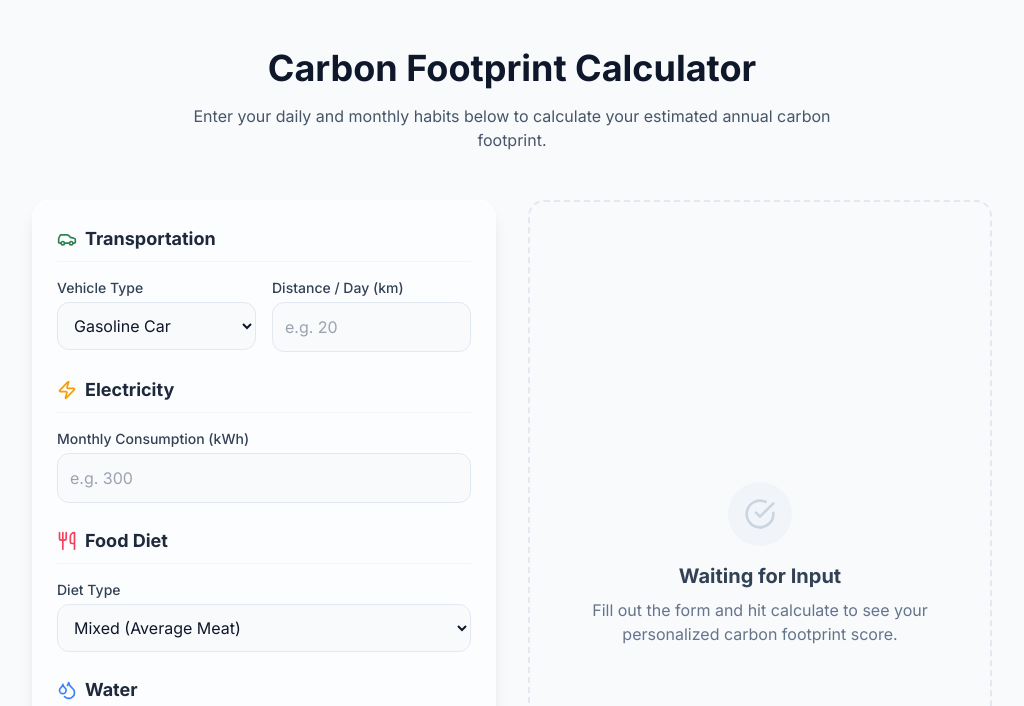
Test: CarbonCalculator Component › displays error for negative distance input
Type "-50" into the number field labelled "Distance / Day (km)".
click(372, 327); type("-50")  # box [272,302,471,352]
(page scrolled)
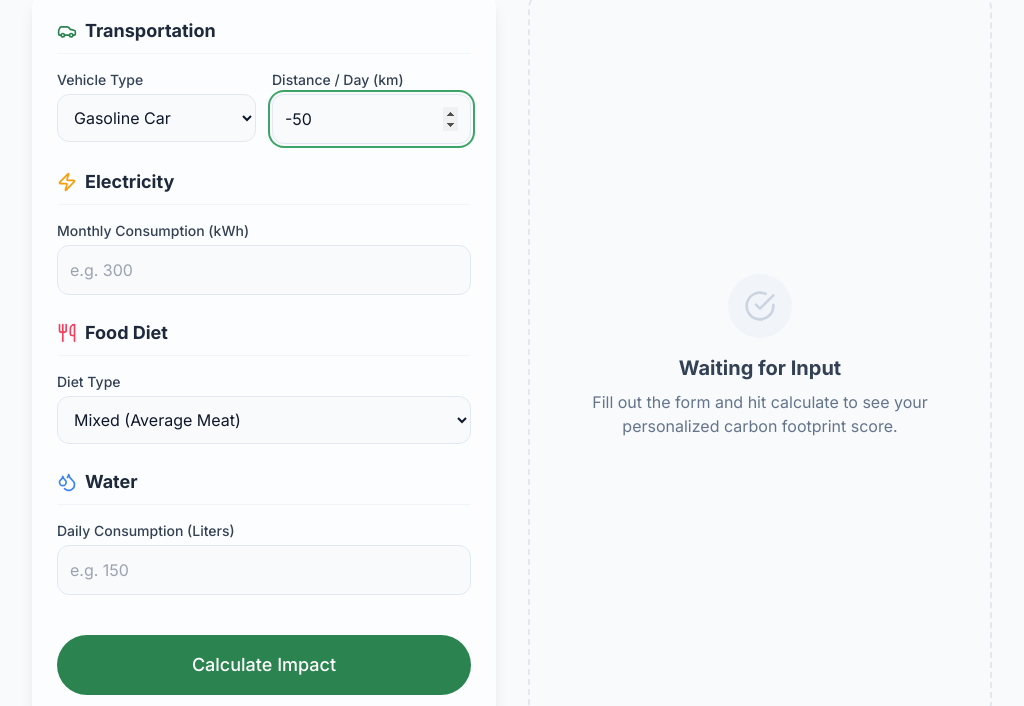
Click the button "Calculate Impact".
click(264, 665)  # box [57,635,471,695]
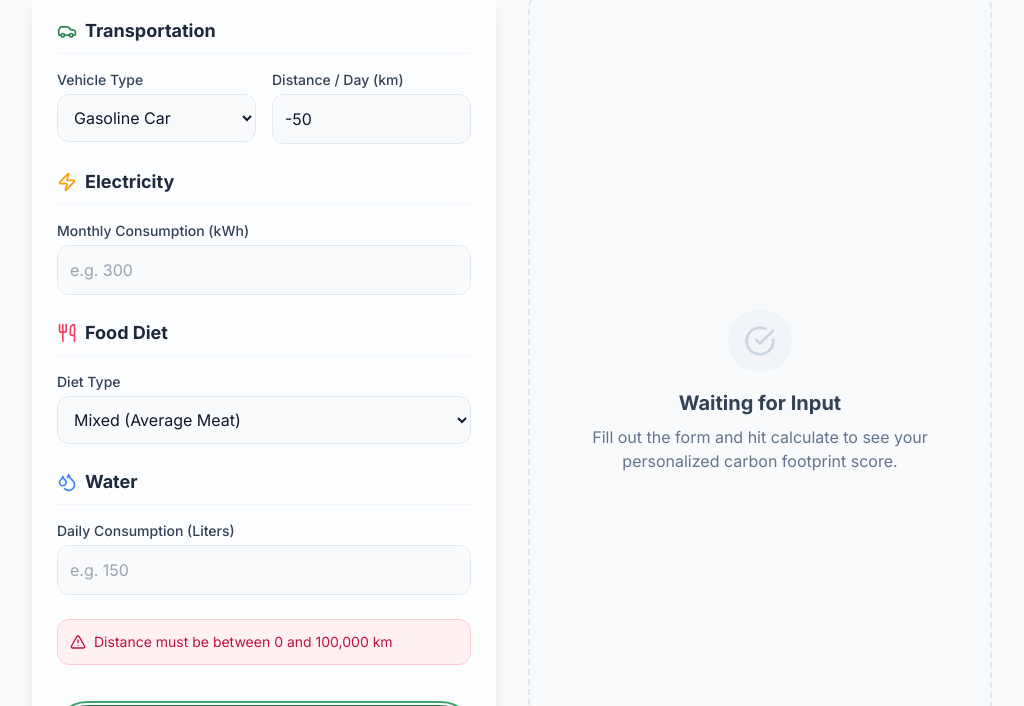
Now the text "Distance must be between 0 and 100,000 km" is shown, box [57,619,471,665]
